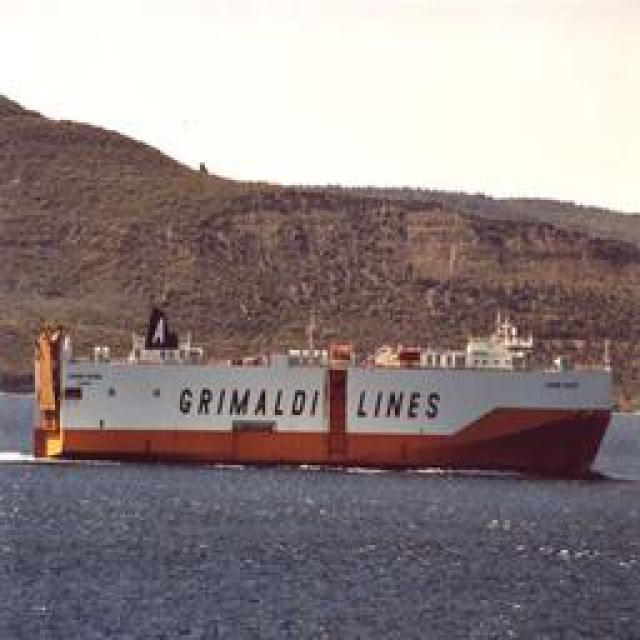Ship: (18, 306, 626, 476)
